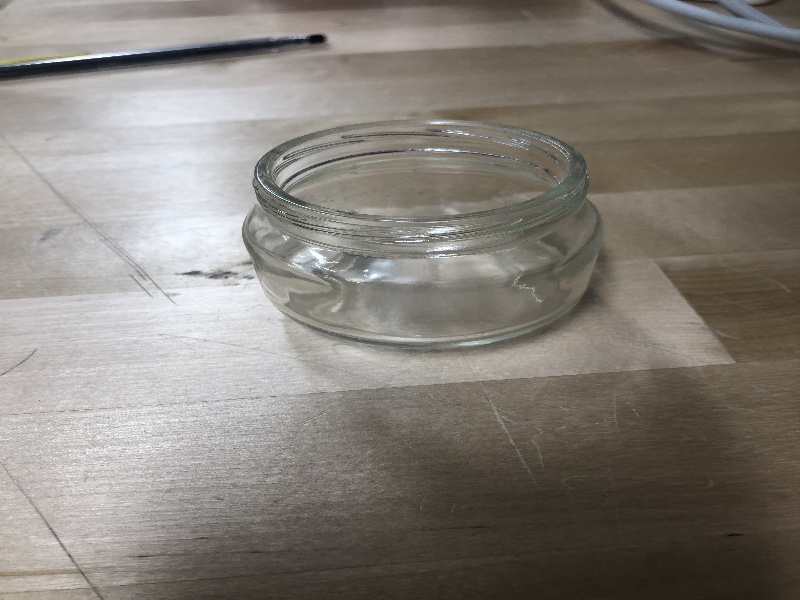glass: (235, 111, 615, 358)
